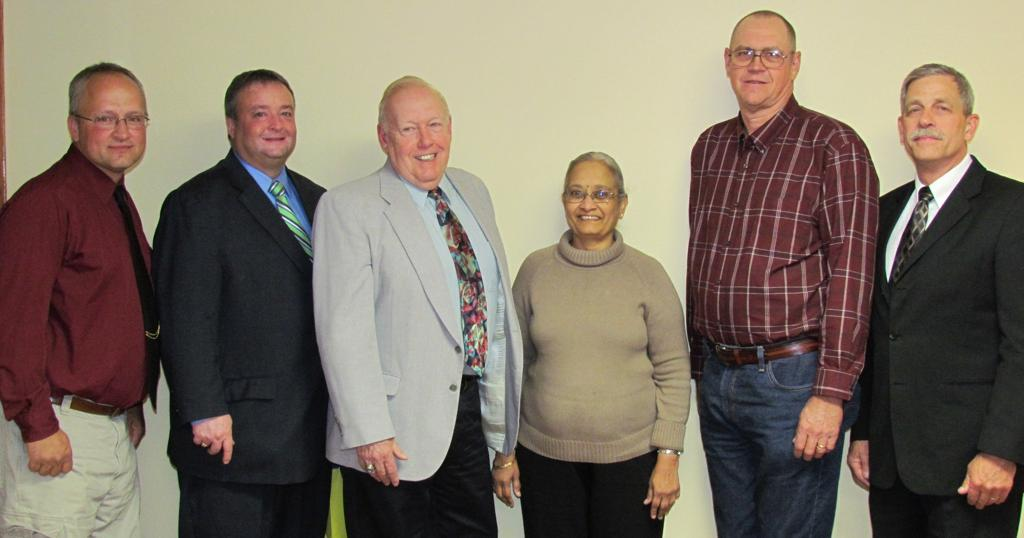face: (79, 71, 148, 168), (388, 87, 450, 181), (729, 13, 790, 105), (902, 74, 964, 159), (236, 79, 296, 156), (564, 161, 619, 236)
